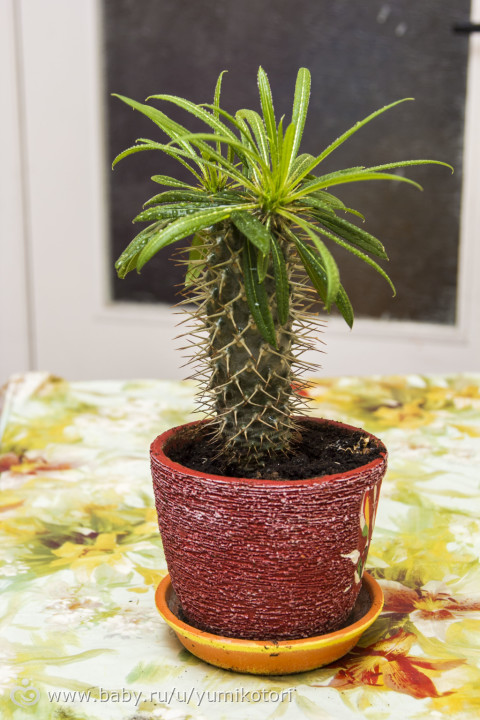Pachypodium lamerei Drake: (153, 68, 367, 460)
